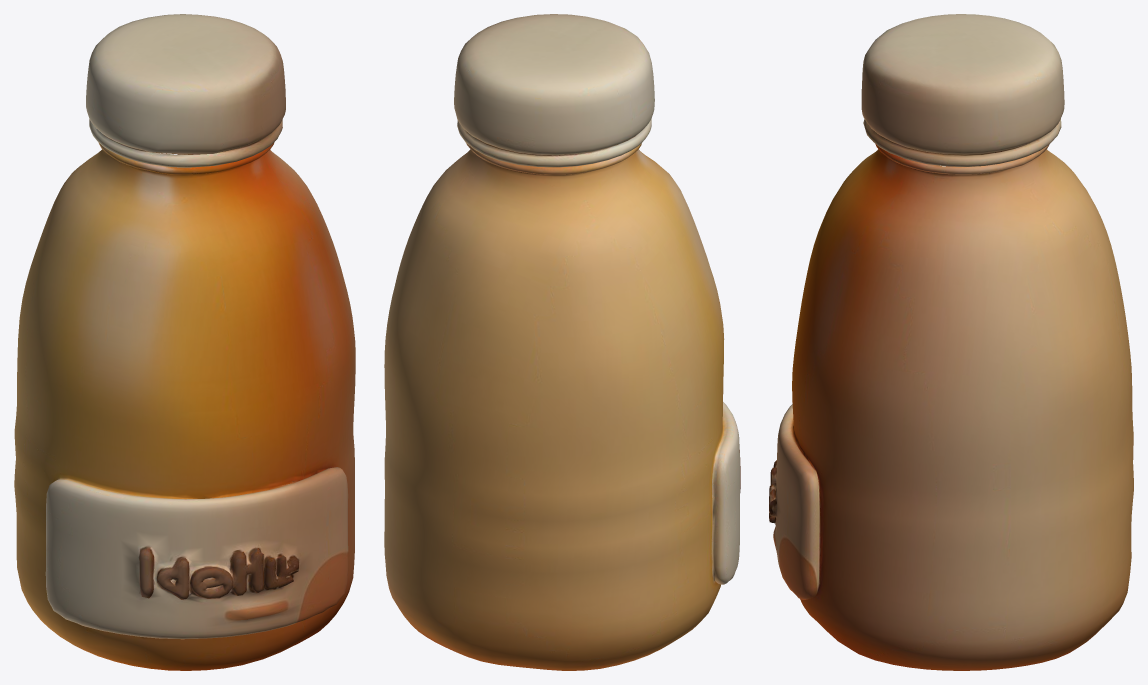
The model's file is juice.glb.
The picture shows the model from 3 angles, left to right: view 1: azimuth 30°, elevation 25°; view 2: azimuth 150°, elevation 25°; view 3: azimuth 270°, elevation 25°; orthographic projection.
Parts seen in each view (by area): view 1: tripo_node_8558df93; view 2: tripo_node_8558df93; view 3: tripo_node_8558df93.
Part boxes in pixels (left/top/right/bottom): tripo_node_8558df93: left=14, top=14, right=355, bottom=670; tripo_node_8558df93: left=384, top=14, right=740, bottom=670; tripo_node_8558df93: left=769, top=14, right=1133, bottom=670.
Size of the model in its own units: 54.58 by 97.89 by 56.62.
Materials: 1 (1 with a texture image).
